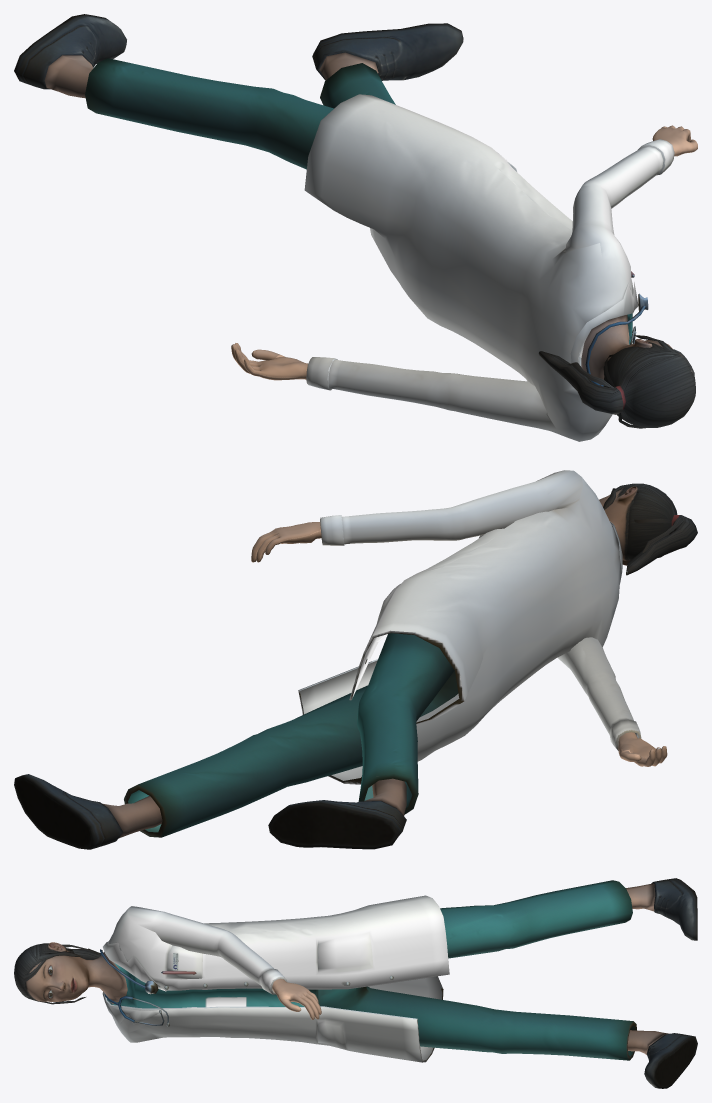
File: walk.obj
3 renders of one model, top to bottom at view 1: azimuth 30°, elevation 25°; view 2: azimuth 150°, elevation 25°; view 3: azimuth 270°, elevation 25°, orthographic. The views are drawn at different scales.
Bounding box in the file's own units: 0.9417 × 0.3713 × 1.69.
Materials: 1 (1 with a texture image).
